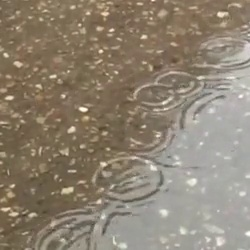drop: (95, 155, 162, 201), (39, 208, 106, 250), (124, 113, 174, 154), (199, 35, 250, 70), (151, 70, 203, 97), (132, 83, 179, 112), (204, 7, 232, 27)
